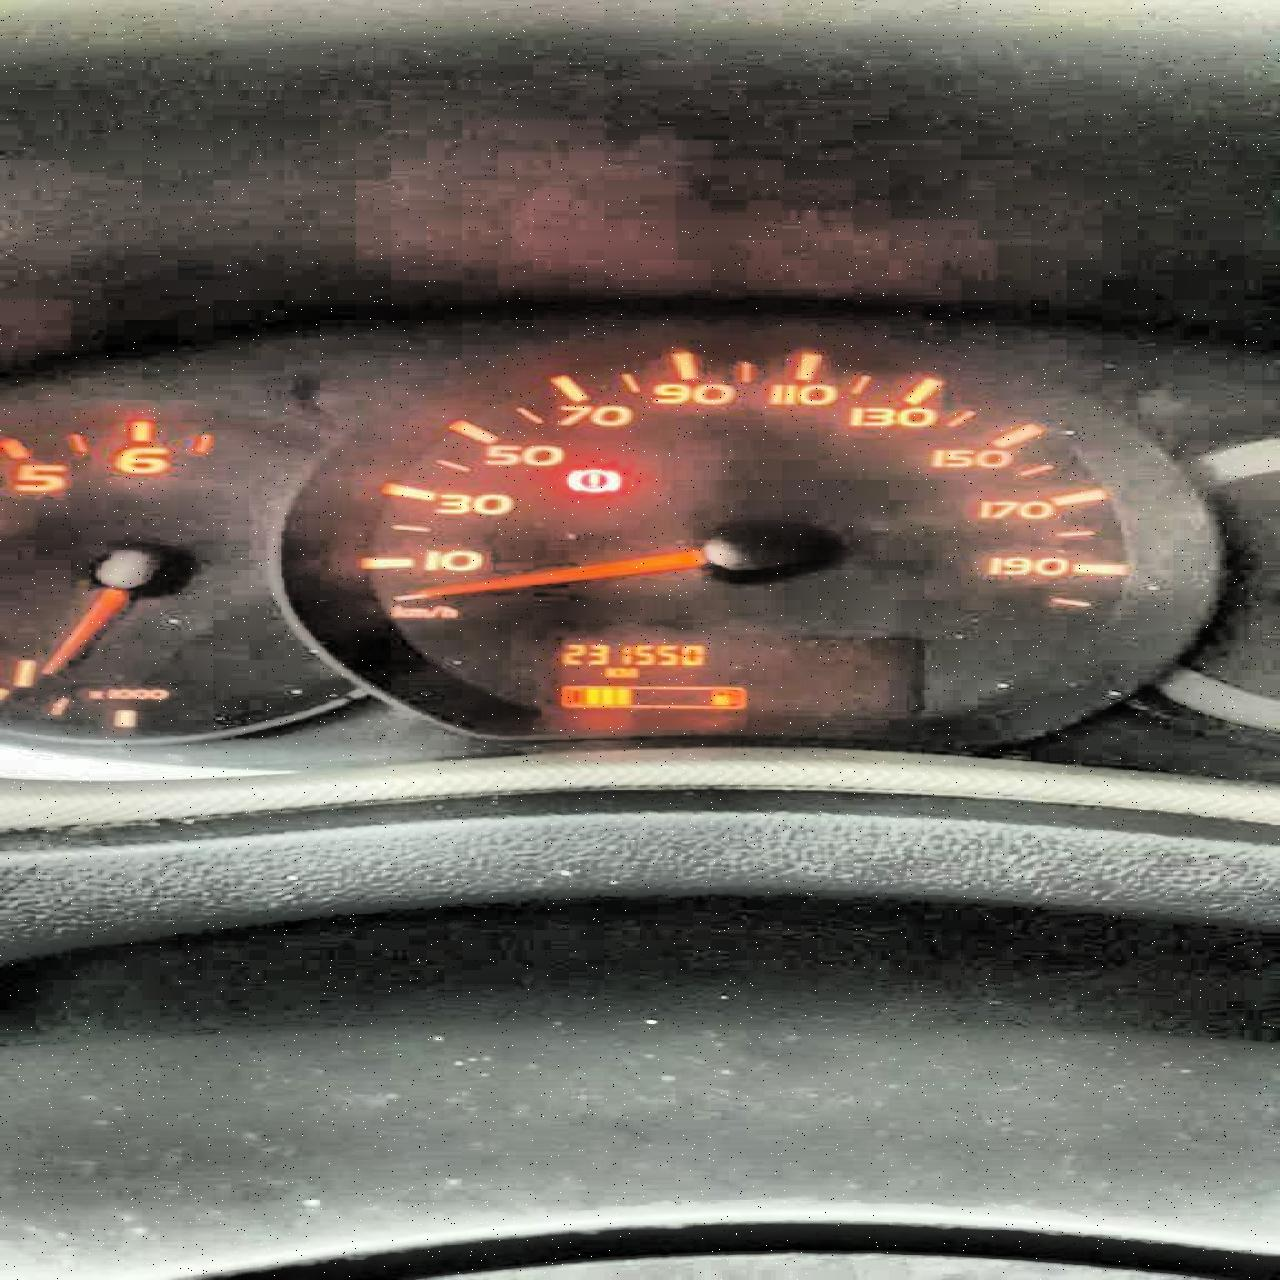0: (680, 644, 707, 666)
1: (615, 644, 632, 663)
2: (563, 641, 585, 665)
3: (584, 641, 608, 665)
5: (653, 642, 678, 666), (633, 642, 654, 666)
X: (618, 667, 638, 678), (602, 667, 615, 678)
odometer: (546, 628, 922, 728)
